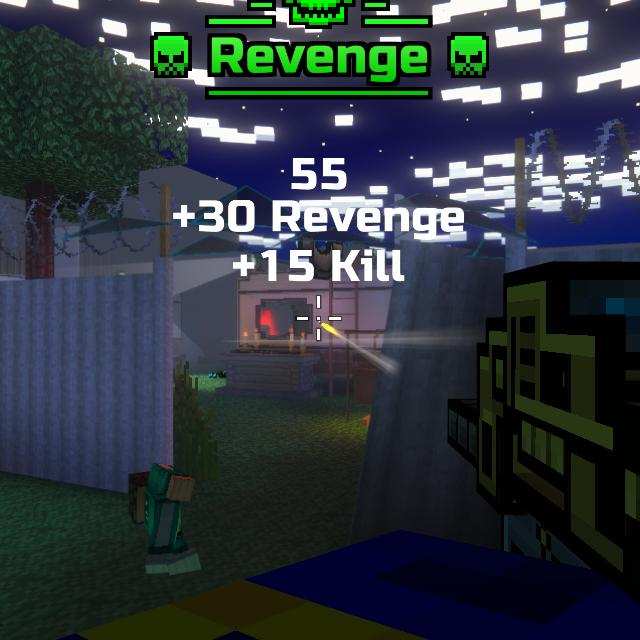Enemy: (260, 323, 274, 336)
